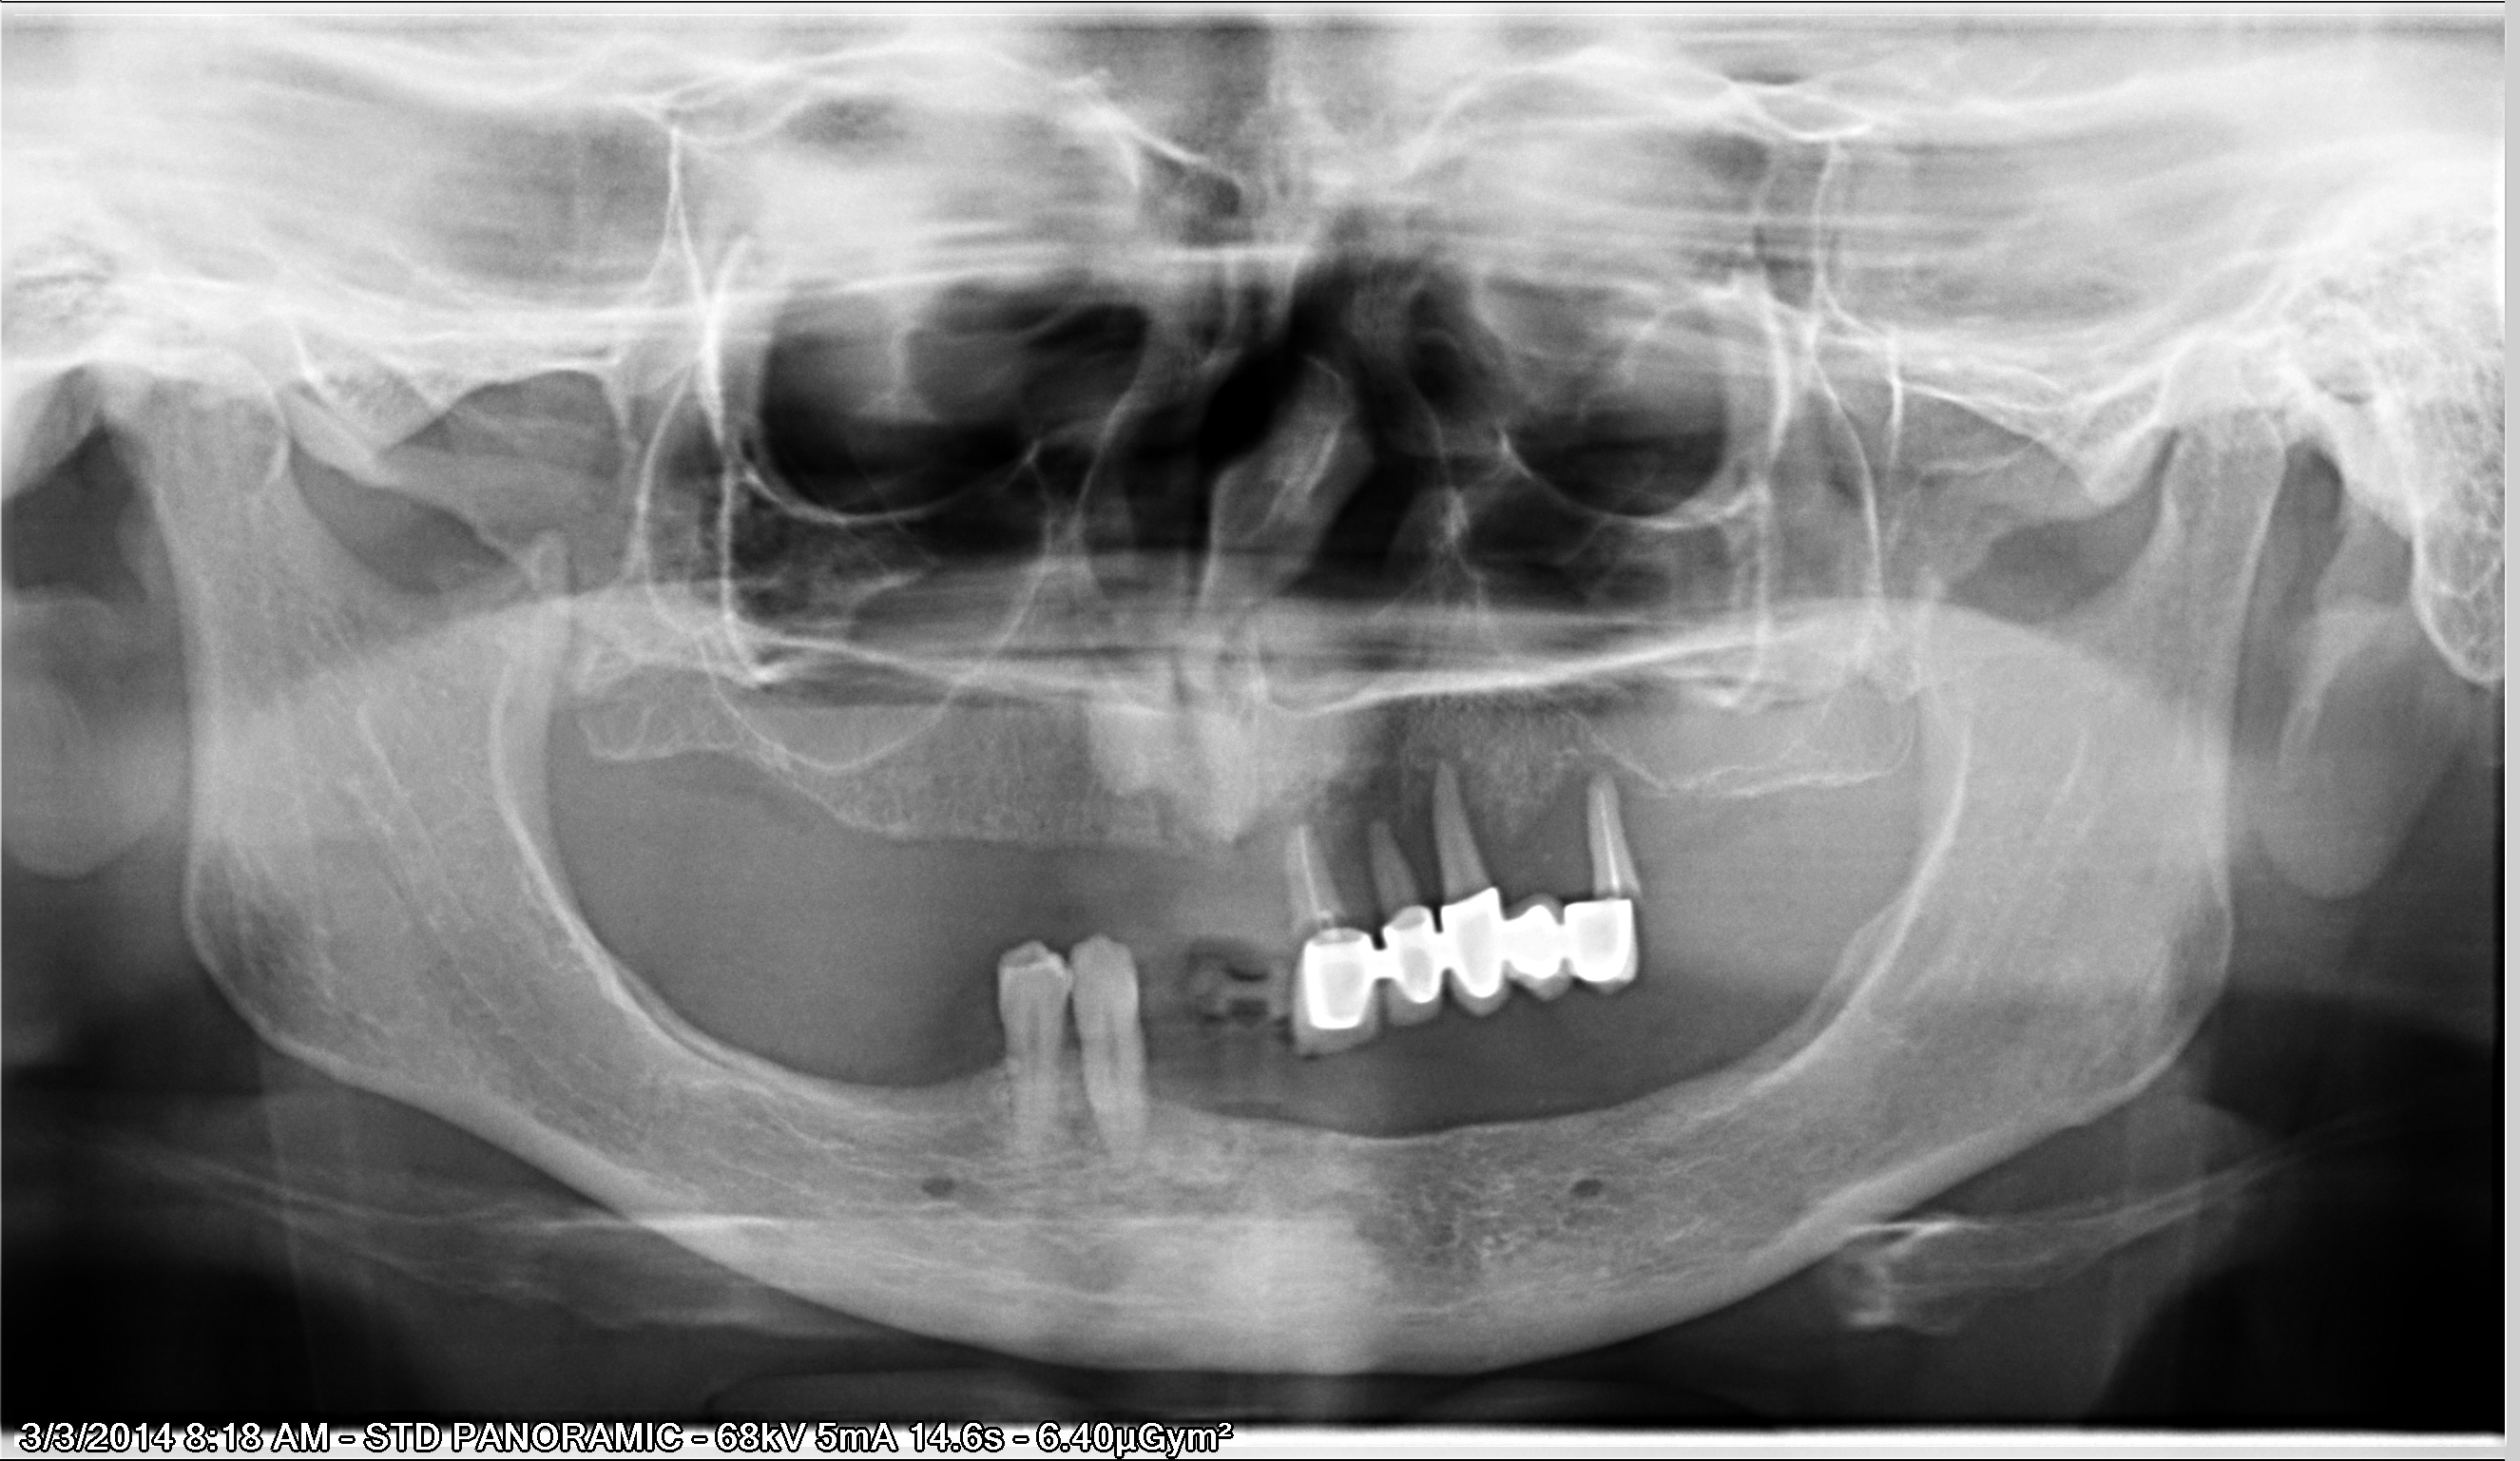BON: (1588, 737, 1687, 817), (1520, 743, 1600, 809)
CAR: (1602, 870, 1668, 915)
END: (1581, 765, 1637, 897), (1283, 807, 1337, 925)
PRR: (1270, 894, 1661, 1073)
